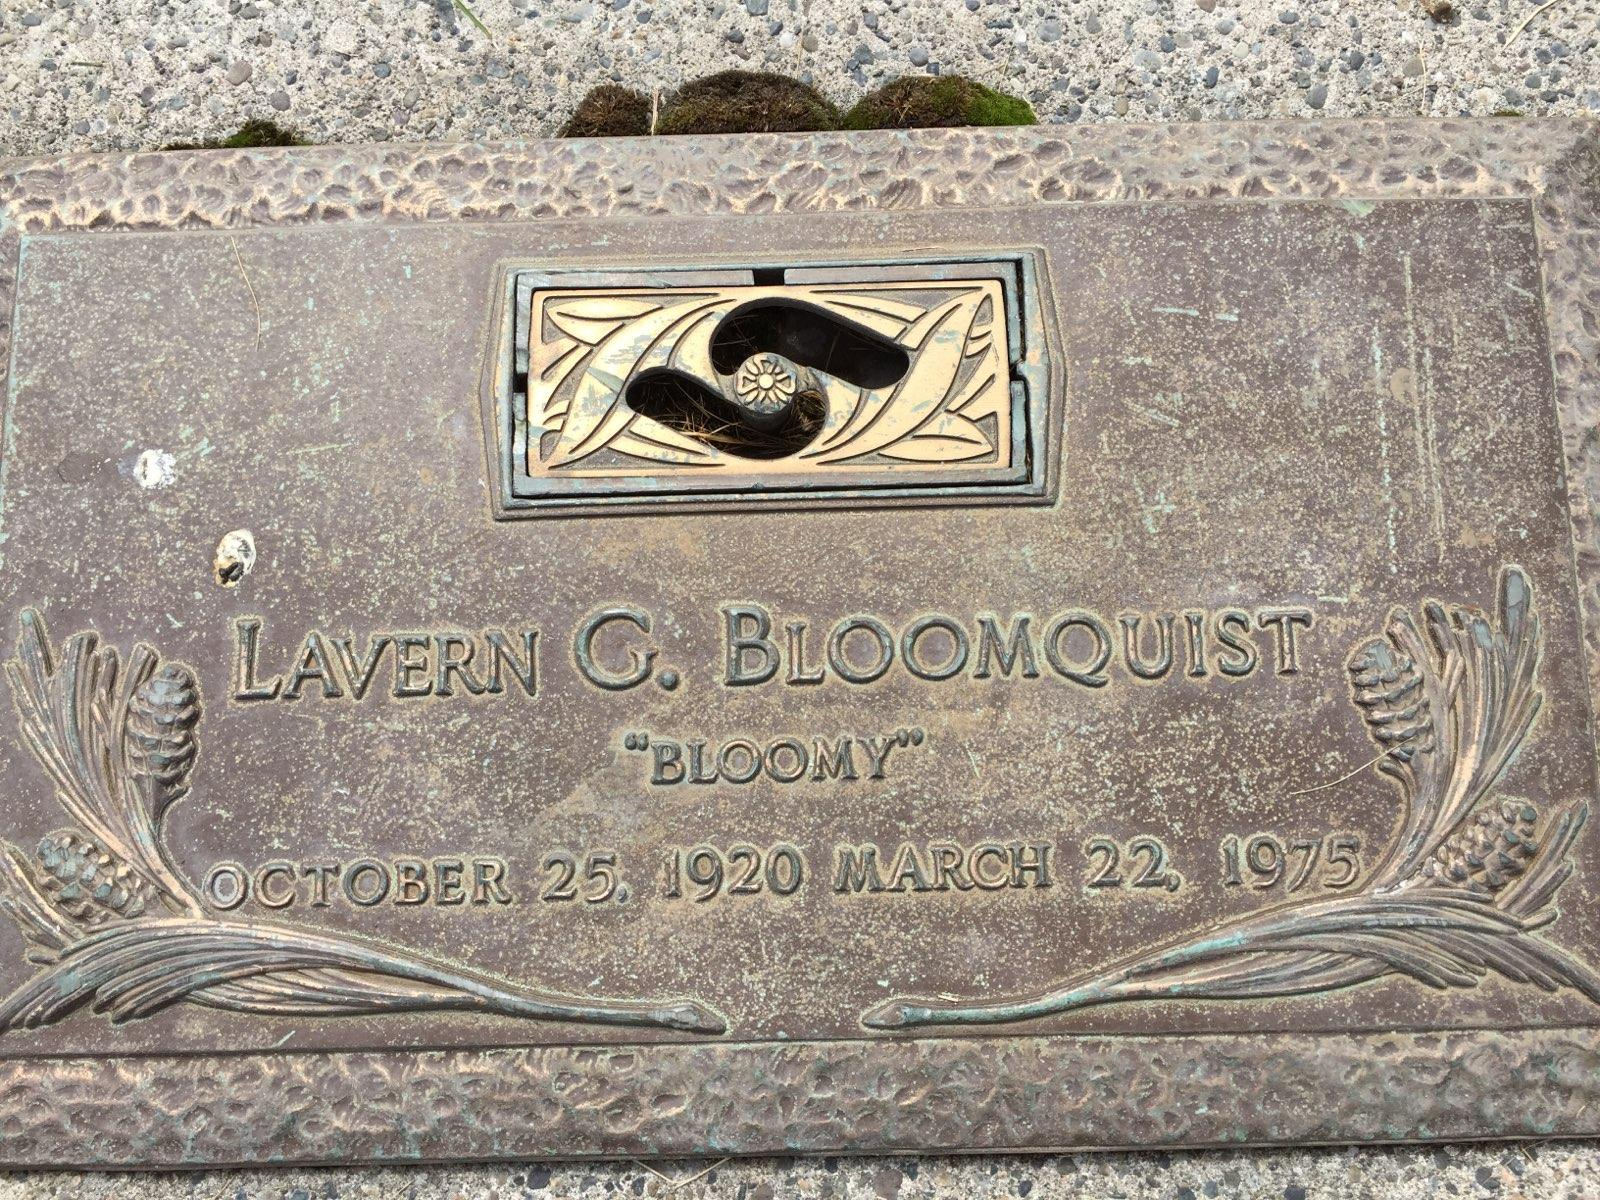flat: (0, 117, 1600, 1179)
